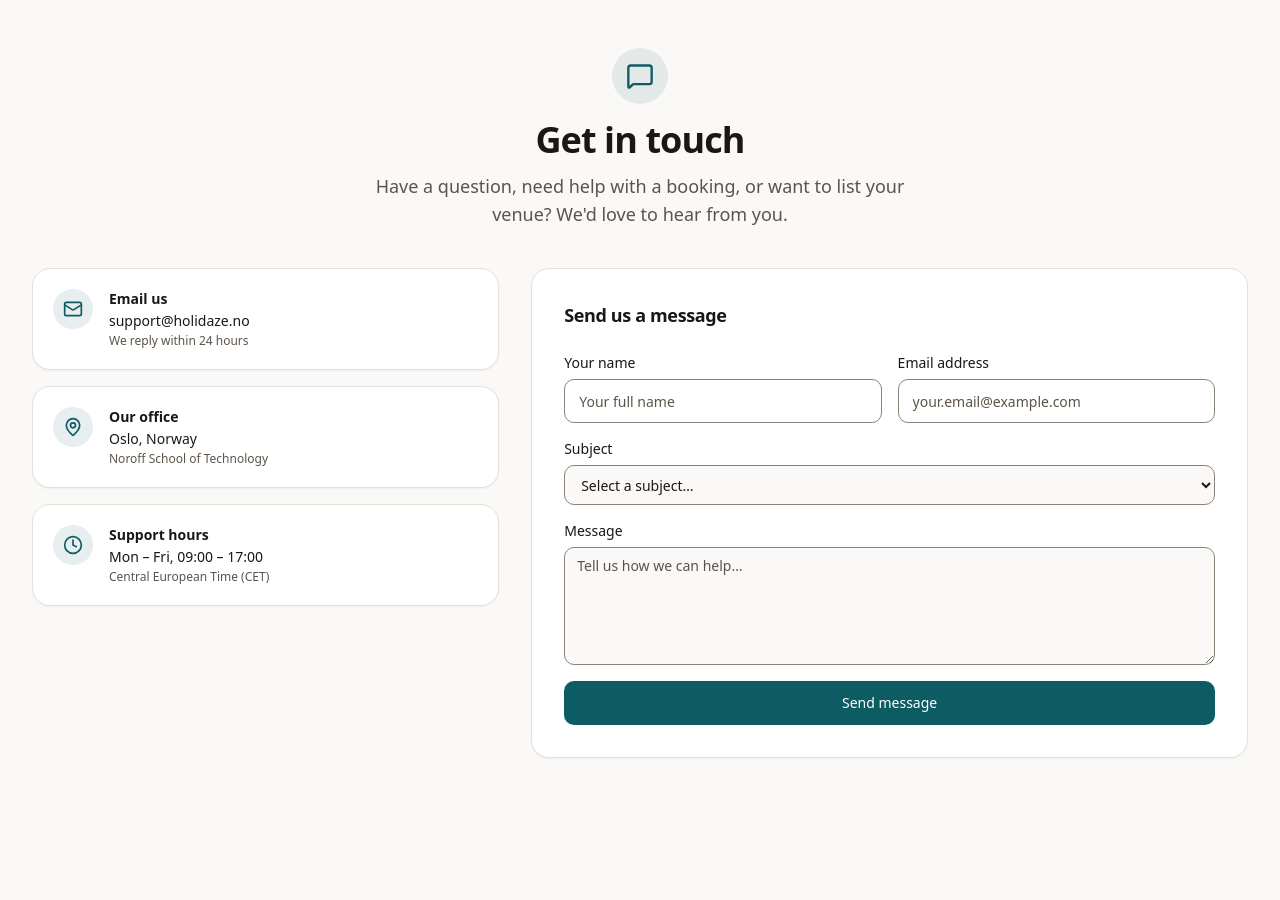
it: ContactPage — validation › shows email error when email is invalid
The width and height of the screenshot is (1280, 900).
In the field labelled "Email address": (1056, 401) [898,379,1215,423], type "not-an-email"
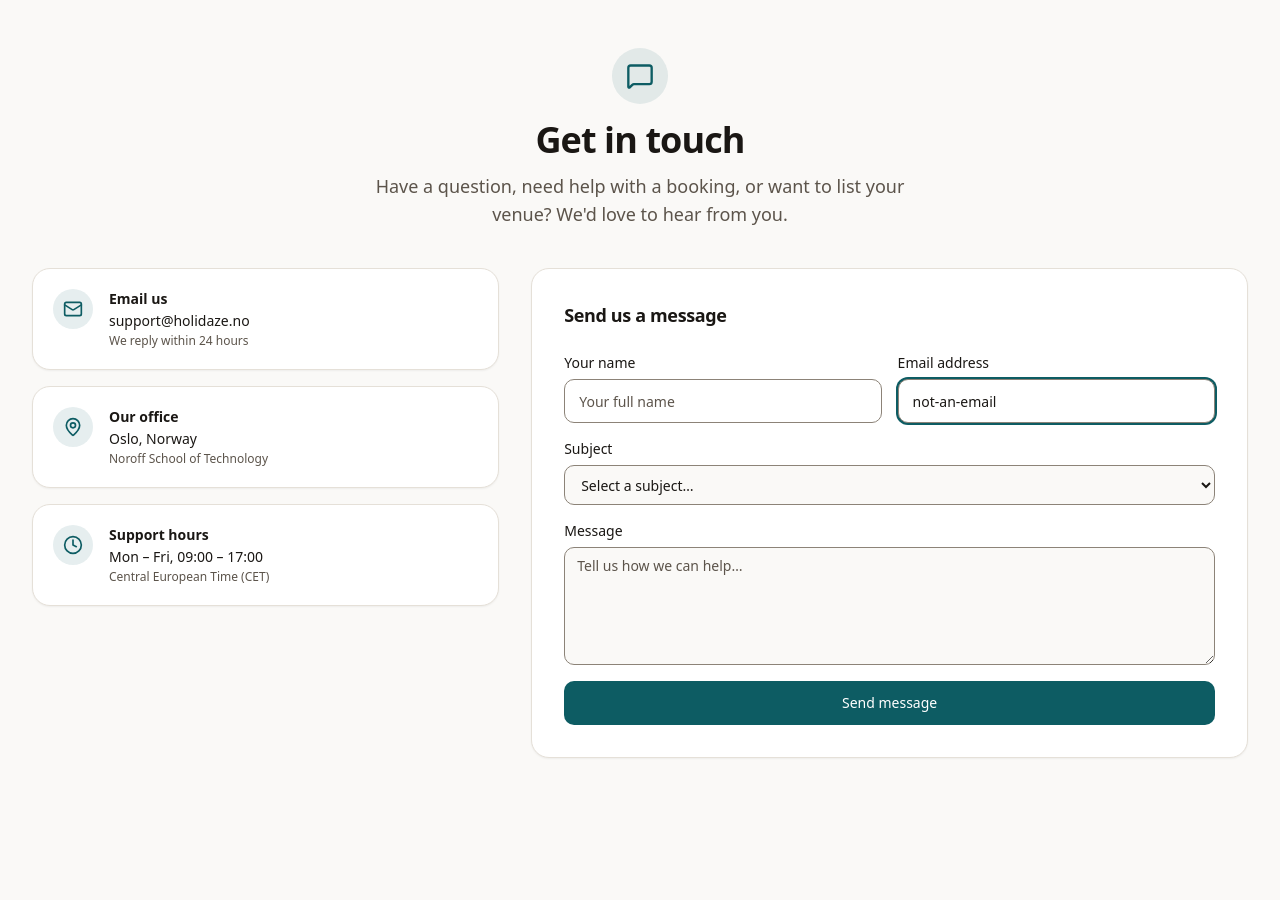
Click the button "Send message": (890, 703) [564,681,1215,725]
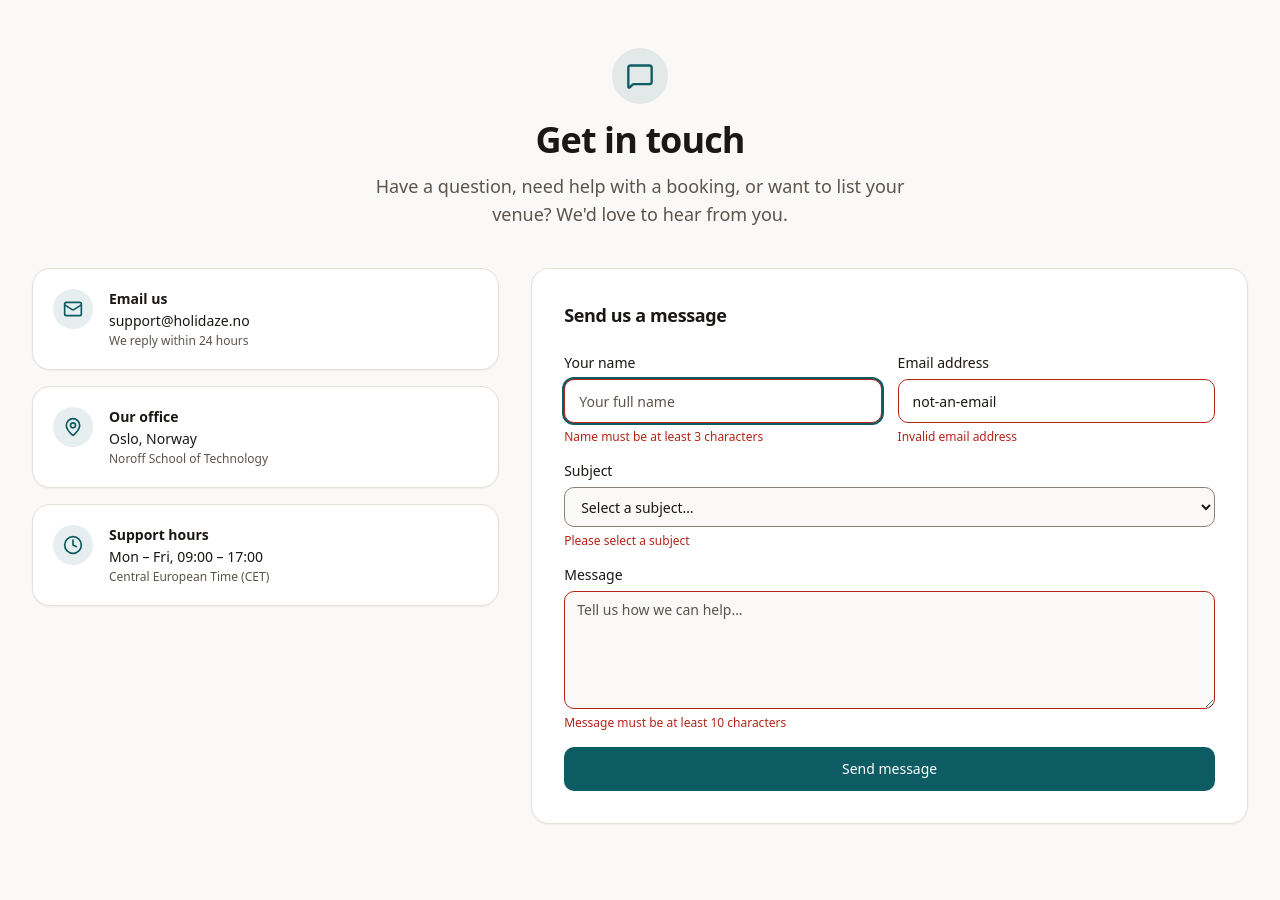
Check: the text "Invalid email address" is shown, box [898,428,1017,445]
